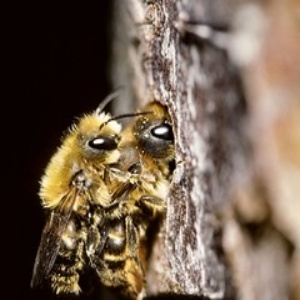bee: (41, 107, 121, 291), (102, 109, 172, 288)
